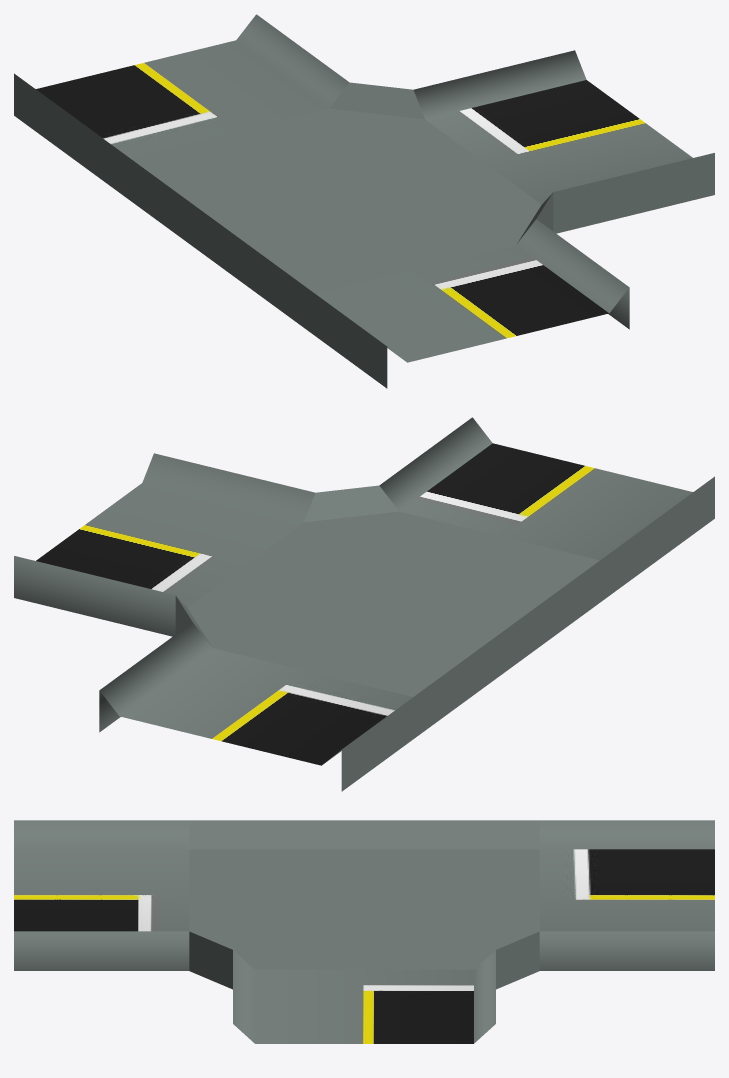
Rendered from intersection_3_lanes_tee.fbx.
The picture shows the model from 3 angles, top to bottom: view 1: azimuth 30°, elevation 25°; view 2: azimuth 150°, elevation 25°; view 3: azimuth 270°, elevation 25°; orthographic projection. The views are drawn at different scales.
Parts seen in each view (by area): view 1: intersection_3_lanes_tee_01; view 2: intersection_3_lanes_tee_01; view 3: intersection_3_lanes_tee_01.
Boxes of the visible parts, box(x1,y1,x2,y2) form: intersection_3_lanes_tee_01: box(14, 14, 714, 388); intersection_3_lanes_tee_01: box(14, 417, 714, 791); intersection_3_lanes_tee_01: box(14, 820, 714, 1043).
Bounding box in the file's own units: 44 × 4 × 64.
